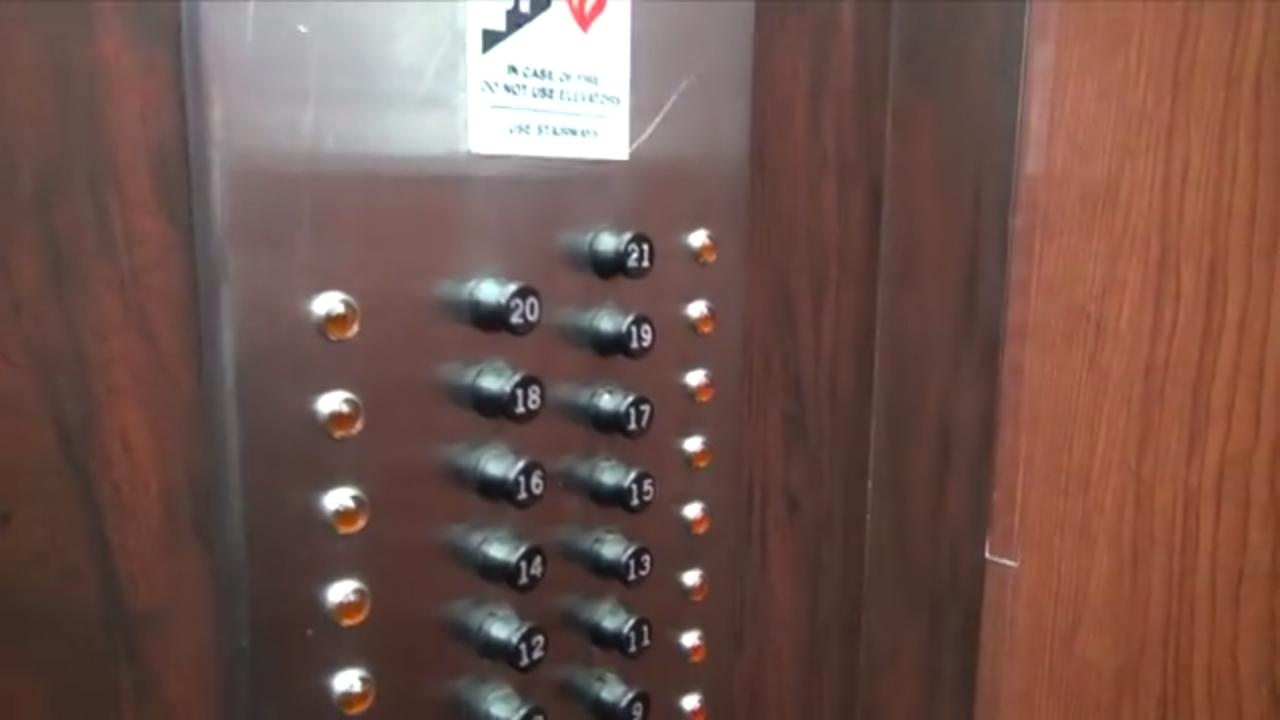11: (586, 605, 658, 656)
12: (473, 612, 548, 676)
13: (585, 528, 661, 588)
14: (473, 531, 551, 594)
15: (582, 455, 658, 518)
16: (471, 446, 554, 508)
17: (586, 387, 657, 441)
18: (473, 360, 550, 426)
19: (587, 309, 658, 361)
20: (463, 273, 547, 340)
21: (587, 228, 656, 283)
indicator: (305, 289, 363, 347), (323, 663, 376, 720), (319, 482, 372, 535), (313, 387, 368, 438), (320, 575, 372, 628), (678, 299, 723, 338), (686, 225, 722, 270), (678, 433, 718, 473), (678, 366, 719, 404), (676, 564, 713, 601), (676, 627, 708, 666), (677, 687, 711, 720), (681, 501, 713, 536)
